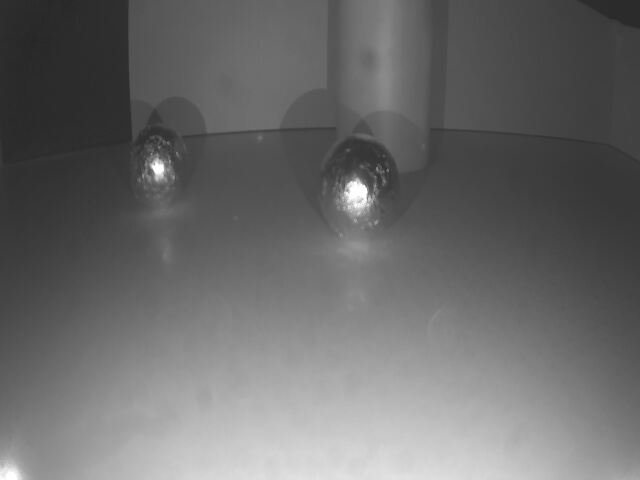Live: (320, 132, 402, 247), (128, 122, 192, 211)
